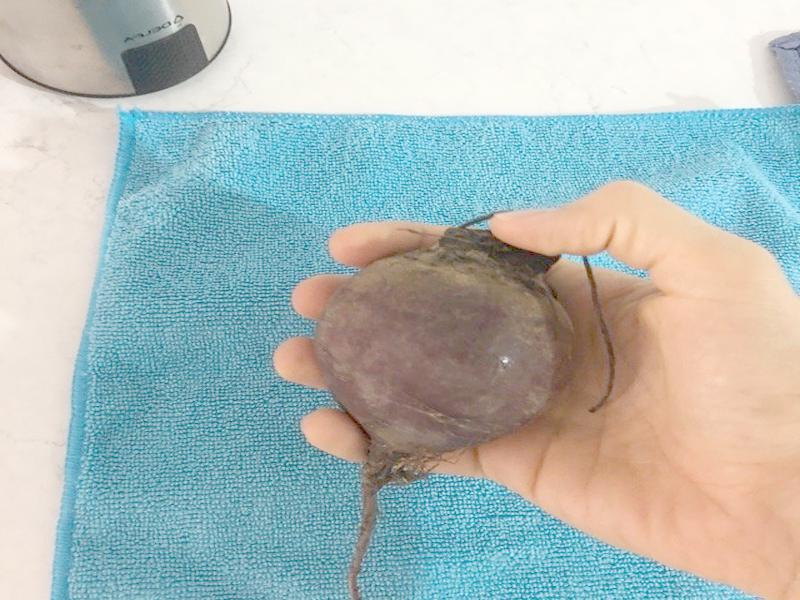Beet: (313, 211, 613, 600)
